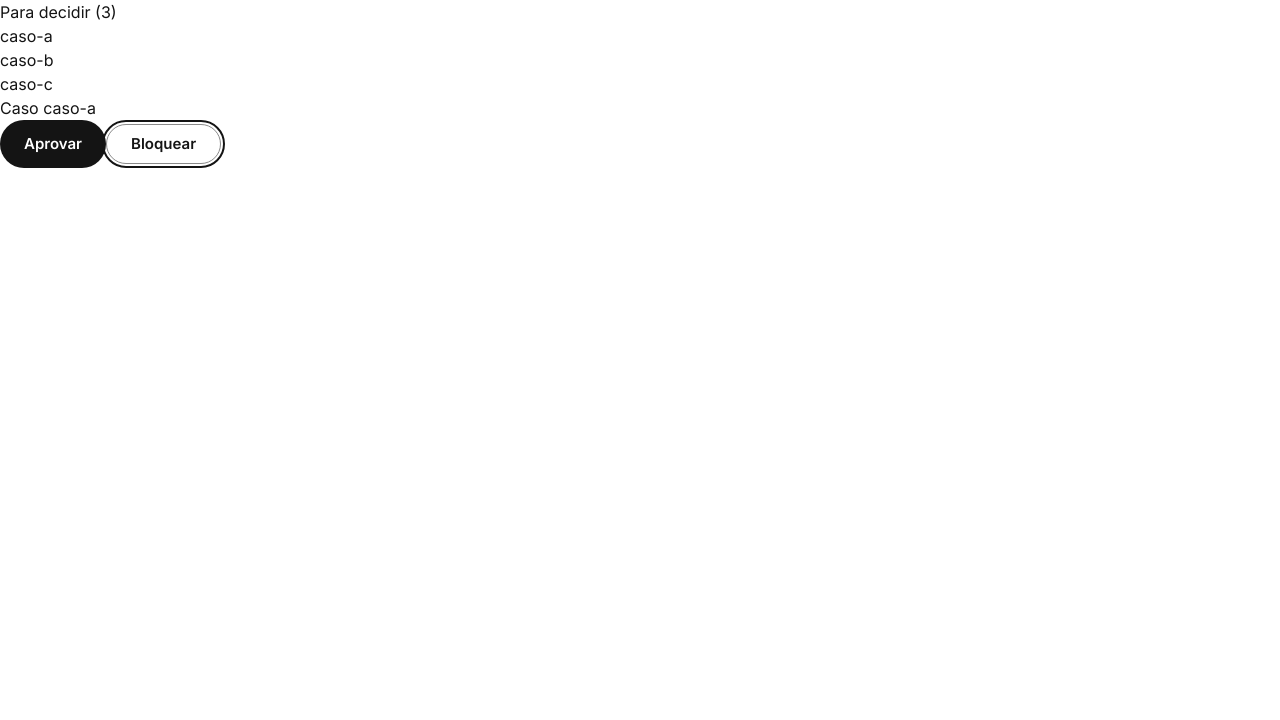
Bloquear dialog (T107; AC 38; D10; F5, F6, F7) › the confirmation is the ink primary with the explicit verb, never red (DDR-0003 point 3)
Click the button "Bloquear".
click(164, 144)  # box [106, 124, 221, 164]
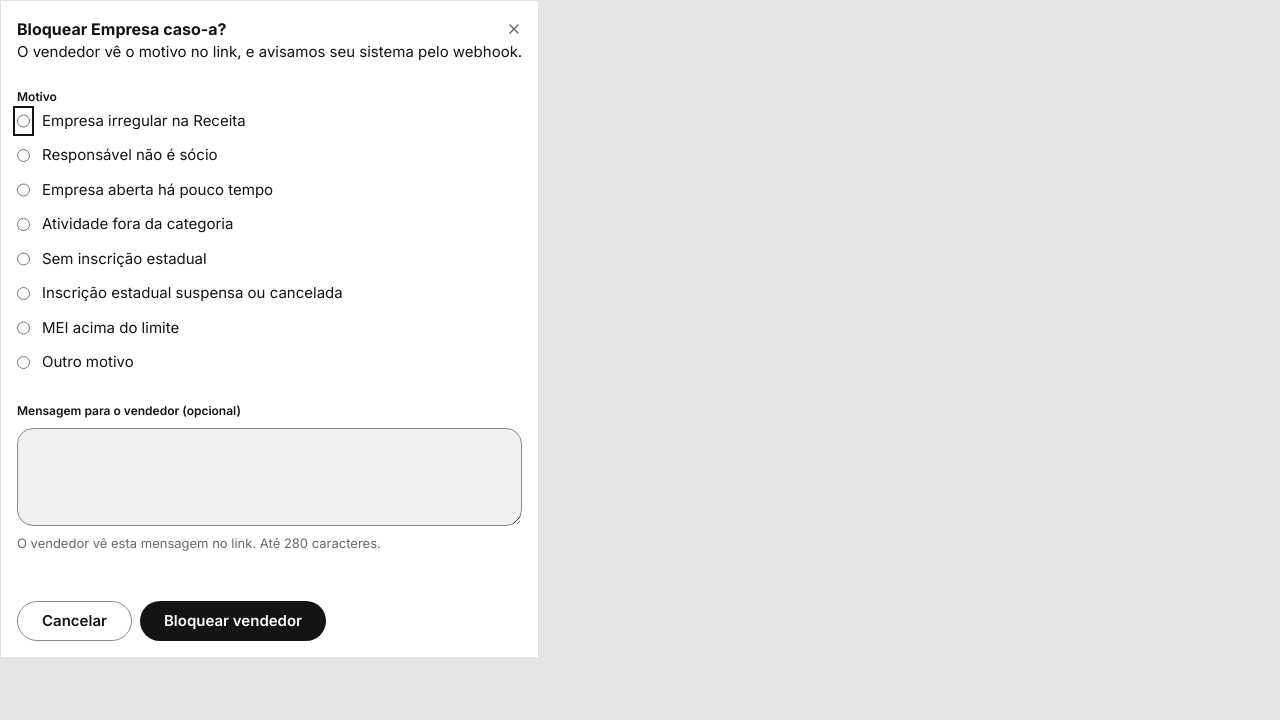
Expected: the button "Bloquear vendedor" is shown, [140, 601, 326, 641]
